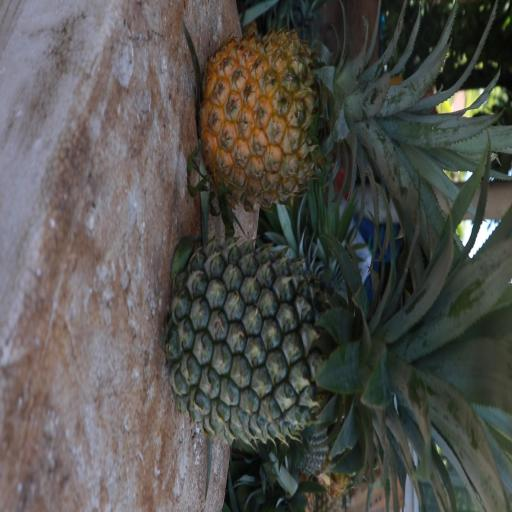Pineapple - v8 v1: (202, 35, 460, 206)
